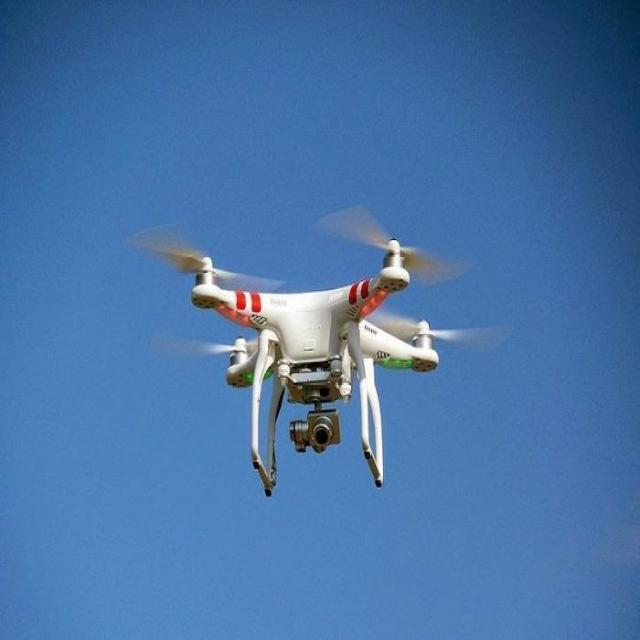UAV: (183, 234, 442, 501)
